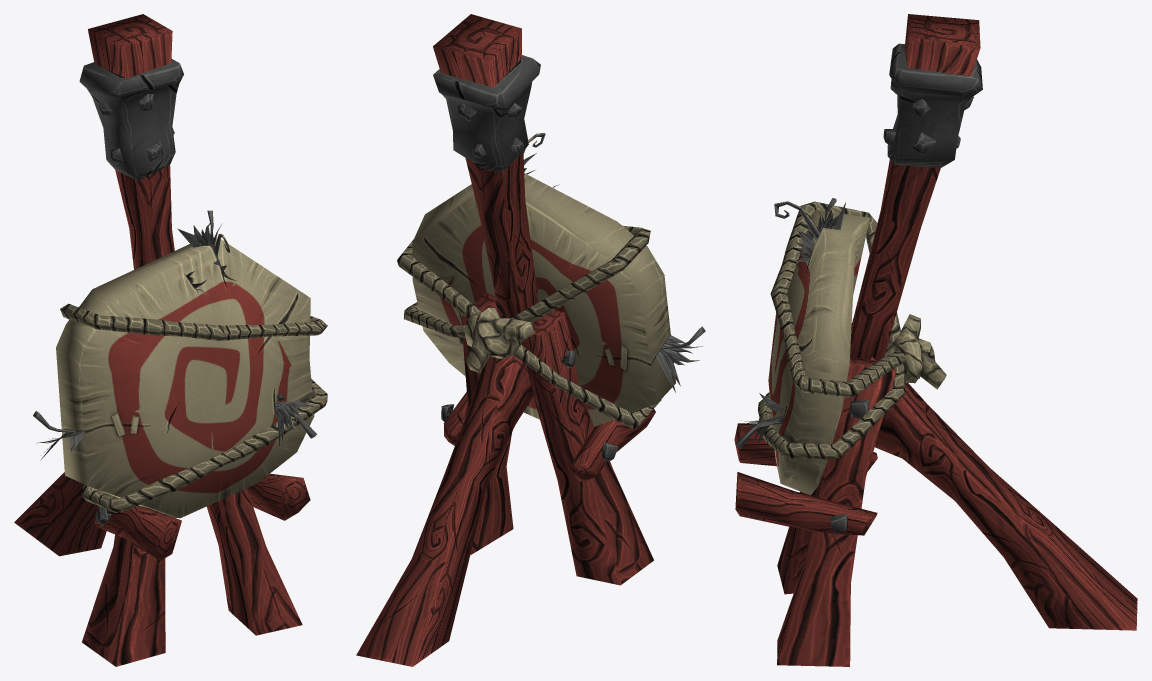
Rendered from target.fbx.
The picture shows the model from 3 angles, left to right: view 1: azimuth 30°, elevation 25°; view 2: azimuth 150°, elevation 25°; view 3: azimuth 270°, elevation 25°; orthographic projection. The views are drawn at different scales.
Parts seen in each view (by area): view 1: node_id37, node_id39; view 2: node_id39, node_id37; view 3: node_id39, node_id37.
Boxes of the visible parts, x1=… form: node_id37: x1=56, y1=59, x2=314, y2=526; node_id39: x1=14, y1=14, x2=327, y2=666; node_id39: x1=356, y1=14, x2=705, y2=666; node_id37: x1=412, y1=55, x2=675, y2=460; node_id39: x1=734, y1=14, x2=1137, y2=666; node_id37: x1=768, y1=43, x2=982, y2=534.
Bounding box in the file's own units: 0.2751 × 0.512 × 0.3141.
1 material, 1 textured.
